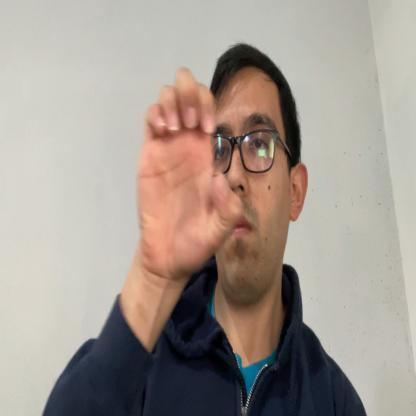E: (136, 65, 242, 279)
